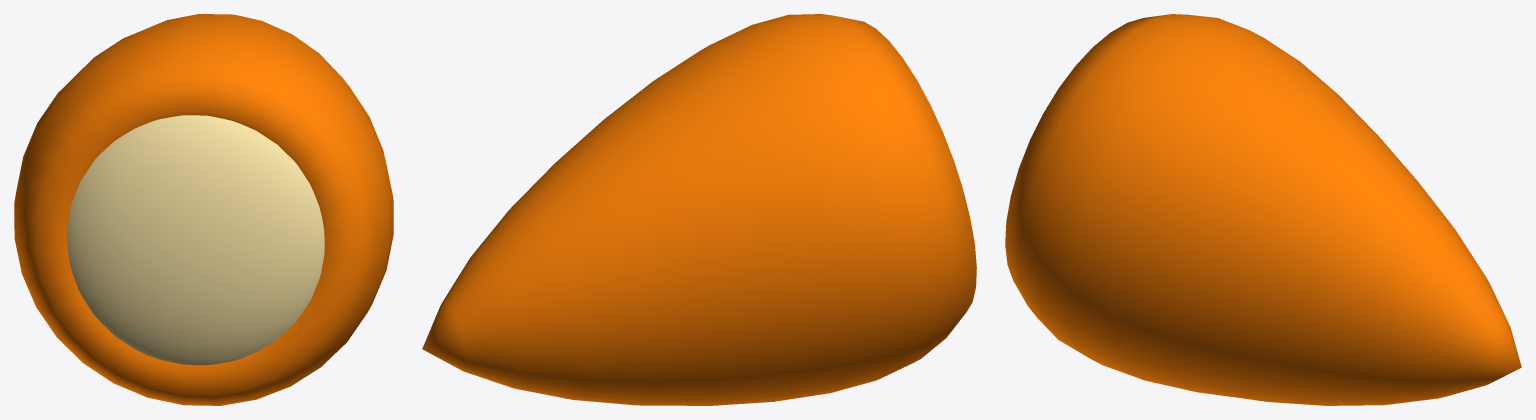
The model's file is Teddy_legright.fbx.
3 views of the same model, side by side, from view 1: azimuth 30°, elevation 25°; view 2: azimuth 150°, elevation 25°; view 3: azimuth 270°, elevation 25° (orthographic). The views are drawn at different scales.
Visible parts, largest first — view 1: Sphere.010; view 2: Sphere.010; view 3: Sphere.010.
Boxes of the visible parts, <box> form: Sphere.010: <box>14,14,393,405</box>; Sphere.010: <box>422,14,976,405</box>; Sphere.010: <box>1005,14,1521,405</box>.
Size of the model in its own units: 155 by 134 by 187.
